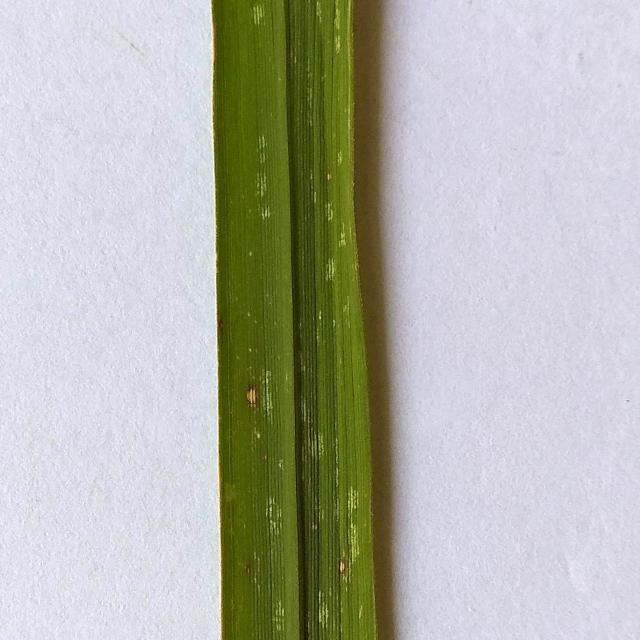Blast: (244, 379, 260, 413), (334, 560, 356, 584)
